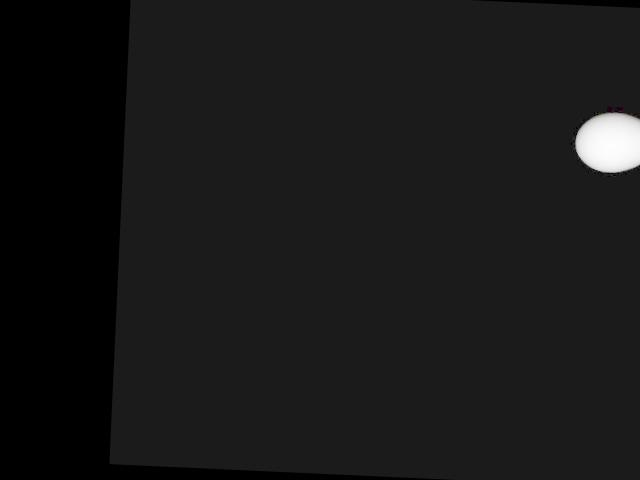egg: (573, 111, 640, 173)
